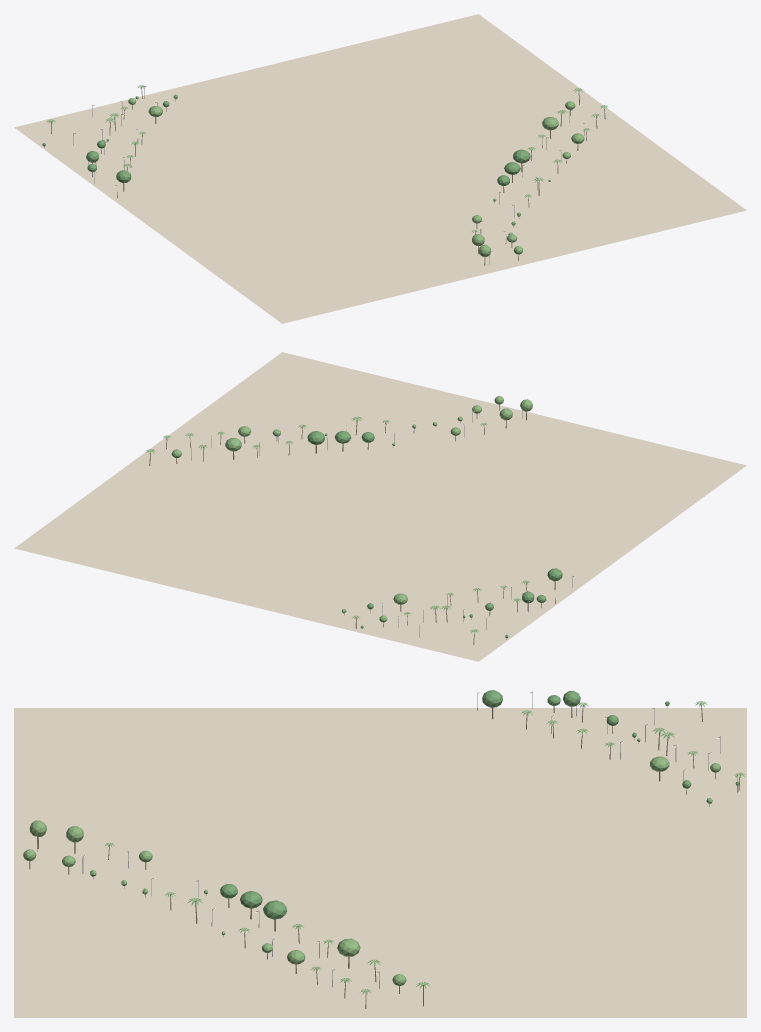
File: nature_1_-5.glb
3 views of the same model, one above another, from view 1: azimuth 30°, elevation 25°; view 2: azimuth 150°, elevation 25°; view 3: azimuth 270°, elevation 25° (orthographic). The views are drawn at different scales.
Visible parts, largest first — view 1: ground, foliage_b, foliage_a; view 2: ground, foliage_b, foliage_a, trunk, palm_leaf; view 3: ground, foliage_b, foliage_a, palm_leaf, trunk.
Boxes of the visible parts, <box> form: ground: <box>14,14,746,323</box>; foliage_b: <box>128,94,584,256</box>; foliage_a: <box>42,96,530,185</box>; ground: <box>14,352,746,661</box>; foliage_b: <box>171,396,532,622</box>; foliage_a: <box>307,431,562,638</box>; trunk: <box>149,404,555,644</box>; palm_leaf: <box>145,416,529,633</box>; ground: <box>14,708,746,1017</box>; foliage_b: <box>23,756,720,985</box>; foliage_a: <box>220,690,739,919</box>; palm_leaf: <box>104,701,745,994</box>; trunk: <box>29,704,739,1008</box>.
Bounding box in the file's own units: 250 × 11.17 × 250.
